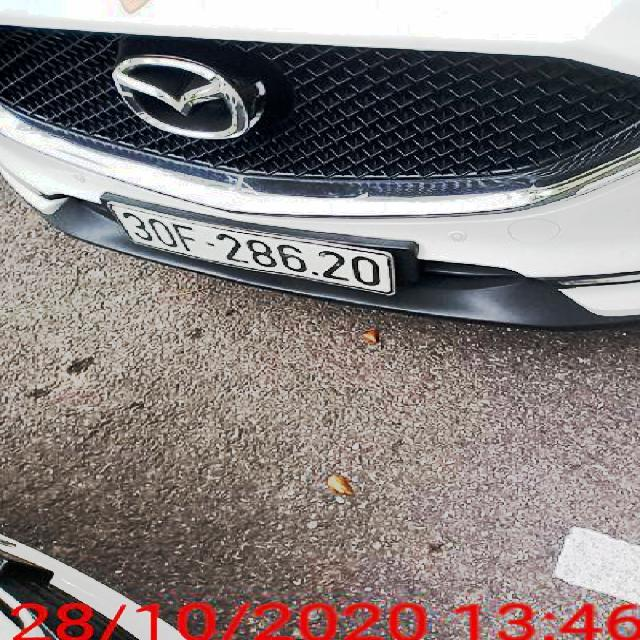license_plate: (111, 204, 392, 294)
